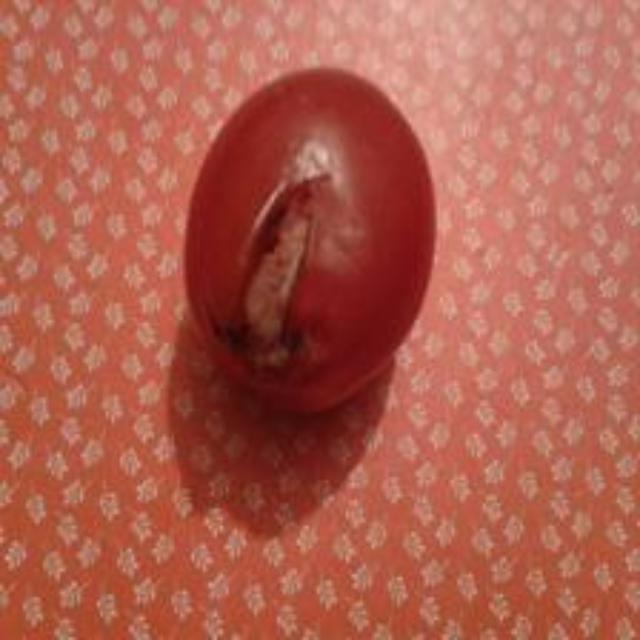defect: (181, 61, 444, 421)
